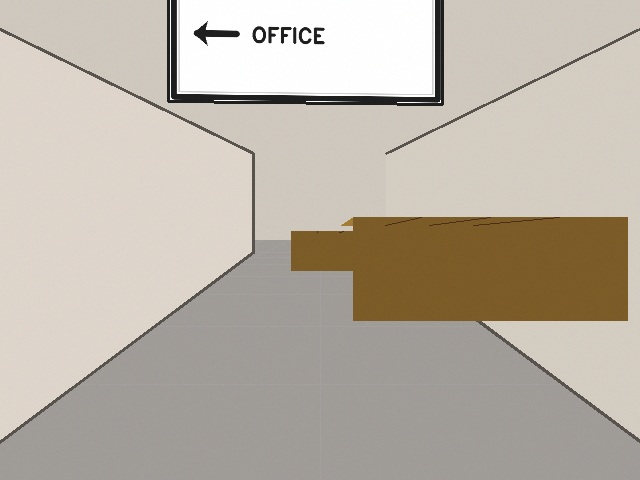directional_sign: (168, 0, 442, 104)
pallet: (341, 217, 627, 320), (291, 231, 395, 270)
